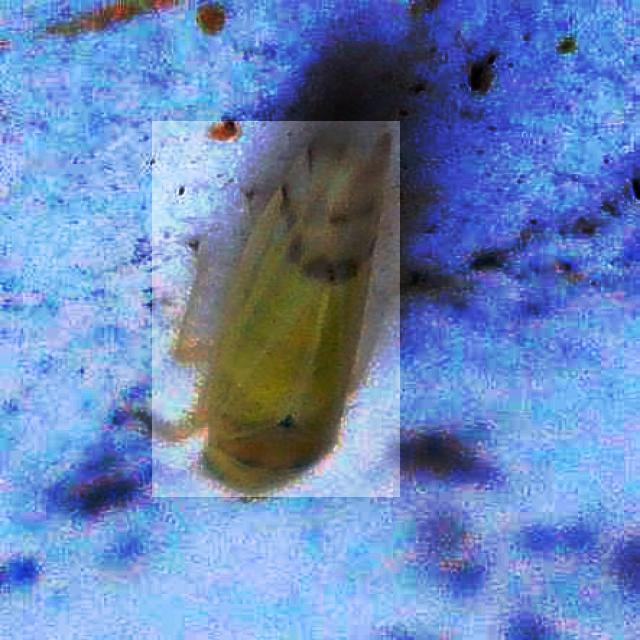green-leafhopper: (152, 122, 400, 498)
